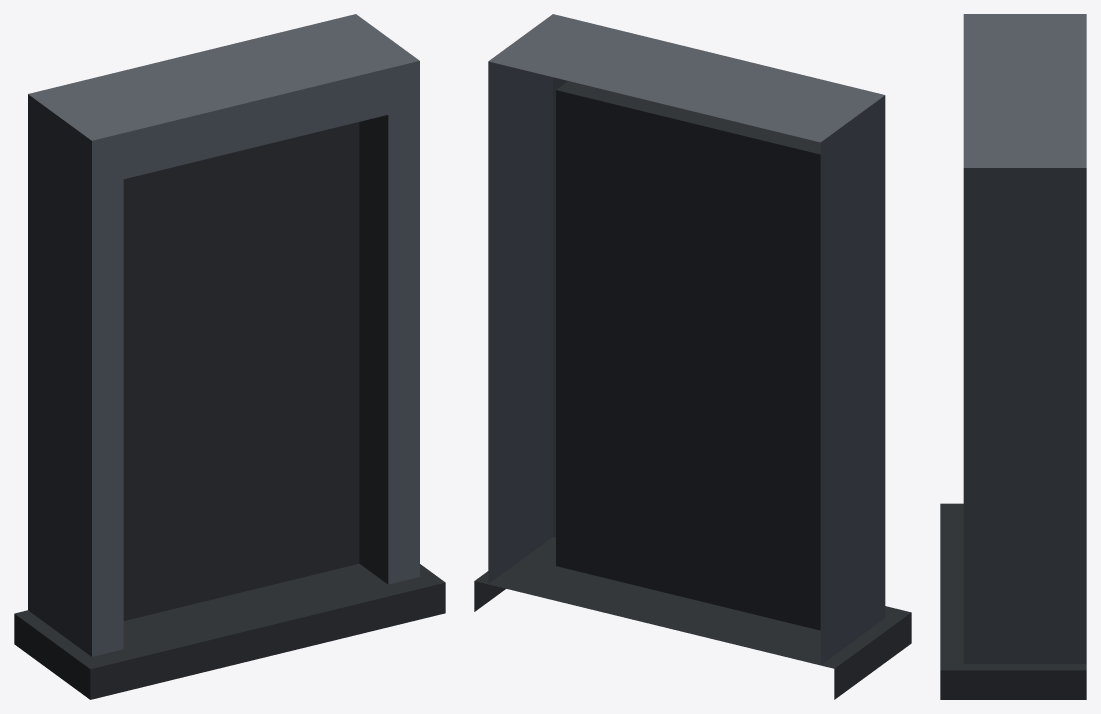
Rendered from TB_CITY_BD_Door_B.FBX.
3 views of the same model, side by side, from view 1: azimuth 30°, elevation 25°; view 2: azimuth 150°, elevation 25°; view 3: azimuth 270°, elevation 25° (orthographic). The views are drawn at different scales.
Visible parts, largest first — view 1: TB_CITY_BD_Door_B; view 2: TB_CITY_BD_Door_B; view 3: TB_CITY_BD_Door_B.
Boxes of the visible parts, box(x1,y1,x2,y2) form: TB_CITY_BD_Door_B: box(14, 14, 445, 699); TB_CITY_BD_Door_B: box(474, 14, 911, 699); TB_CITY_BD_Door_B: box(940, 14, 1086, 699).
Bounding box in the file's own units: 3.33 × 4.9 × 1.24.
